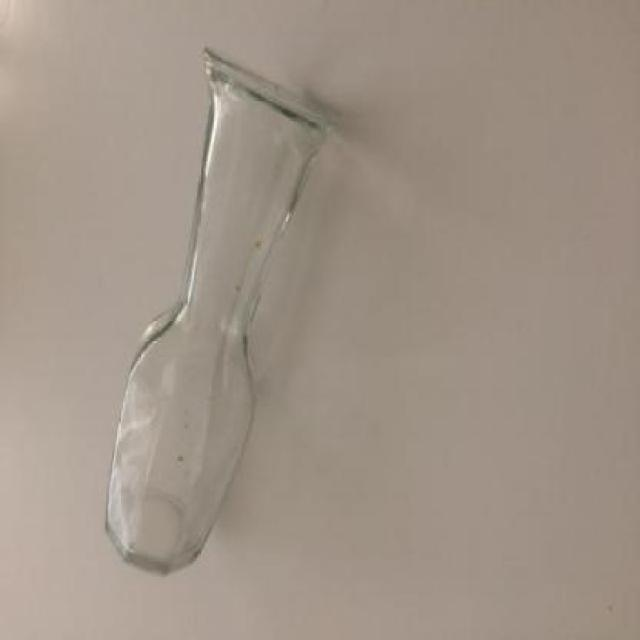kaca: (101, 45, 332, 577)
